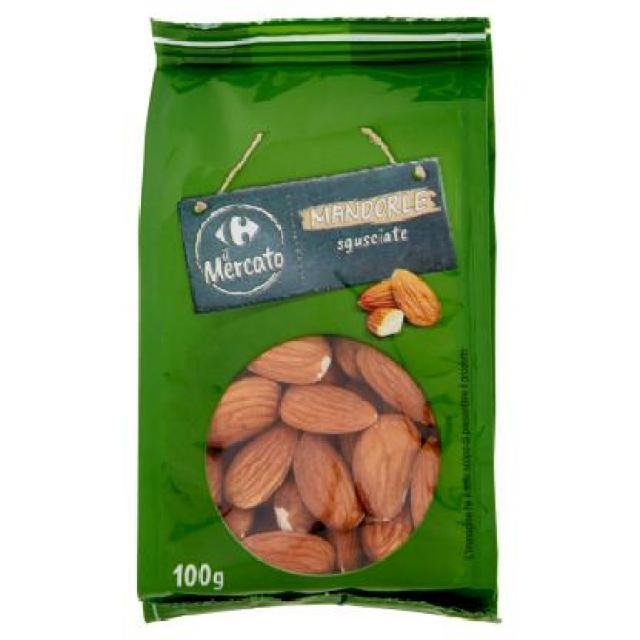Frutta secca: (234, 368, 396, 548)
